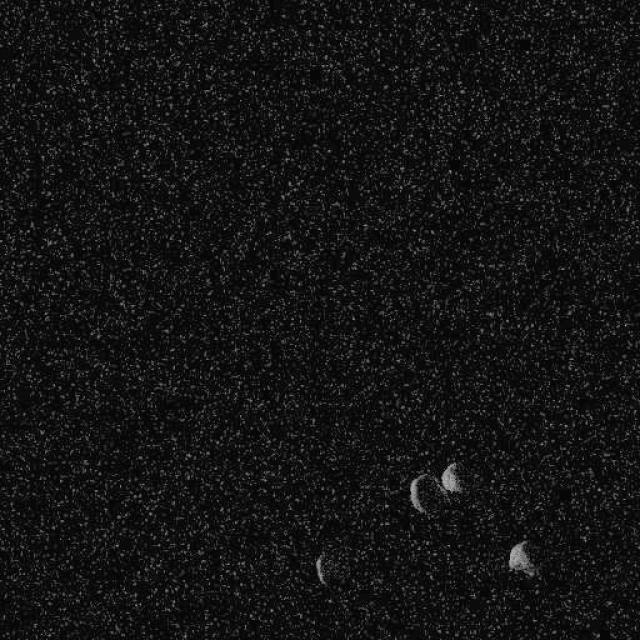D2: (408, 472, 448, 516), (507, 538, 538, 578), (440, 460, 462, 492), (314, 553, 328, 585)
